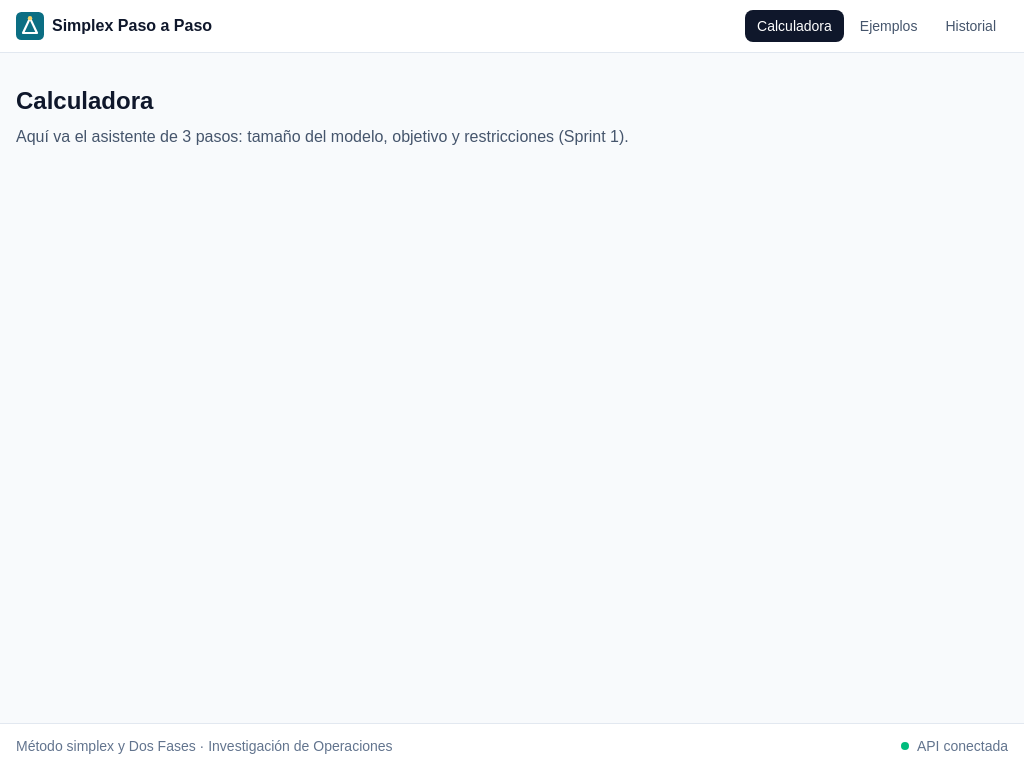
it: navegación › cambia de página desde el menú y marca el enlace activo
Click the link "Ejemplos": (889, 26) [860,18,917,34]
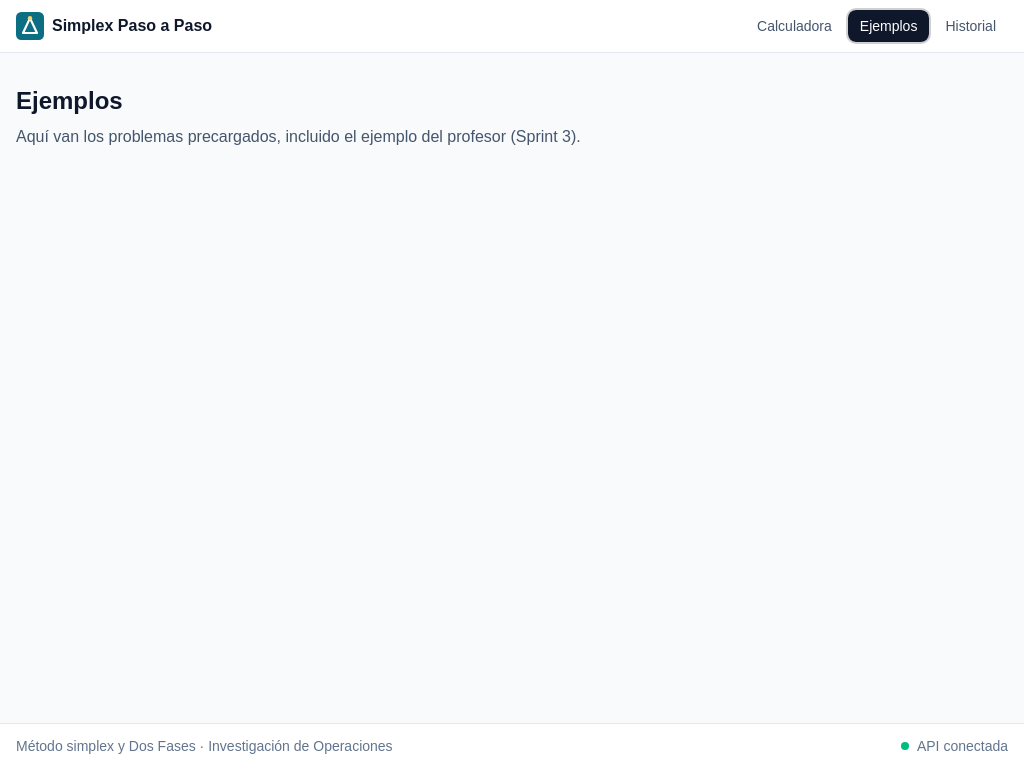
Expected: the heading "Ejemplos" is shown, [16,87,123,114]
